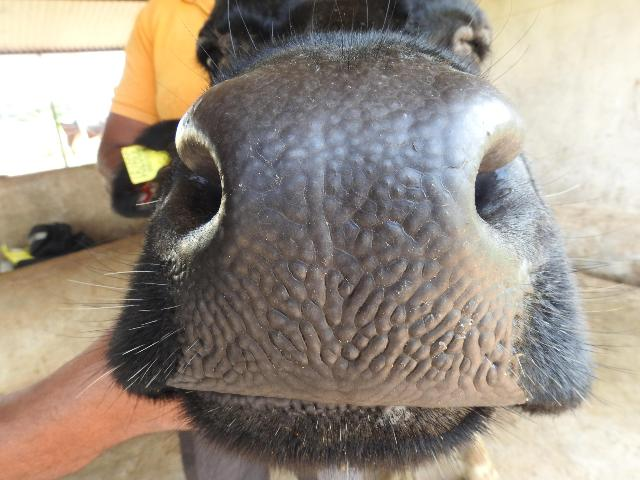Muzzle: (225, 82, 468, 398)
